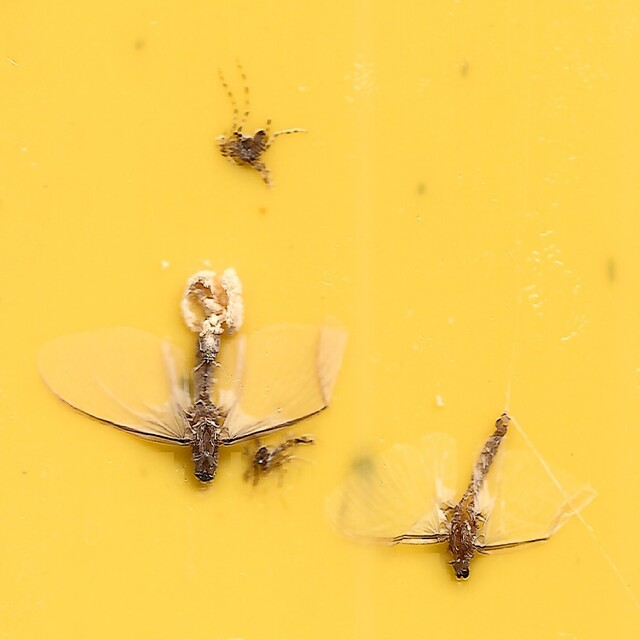Ephemeroptera: (40, 267, 348, 483), (340, 406, 600, 580)
Nematocera: (214, 60, 309, 192)
